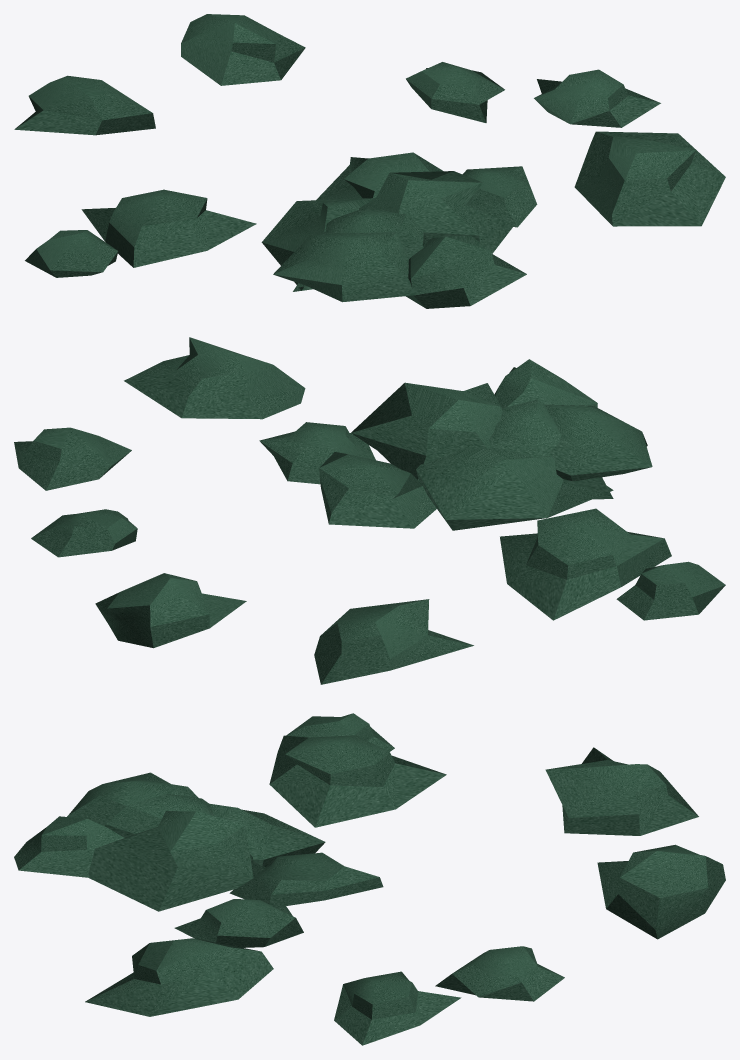
File: brush_mat_4.glb
3 views of the same model, one above another, from view 1: azimuth 30°, elevation 25°; view 2: azimuth 150°, elevation 25°; view 3: azimuth 270°, elevation 25° (orthographic). The views are drawn at different scales.
Parts seen in each view (by area): view 1: brush_mat_4; view 2: brush_mat_4; view 3: brush_mat_4.
Part boxes in pixels (<box>): brush_mat_4: <box>14,14,725,308</box>; brush_mat_4: <box>14,337,725,684</box>; brush_mat_4: <box>14,713,725,1045</box>.
Bounding box in the file's own units: 4.17 × 0.461 × 3.87.
1 material, 1 textured.
